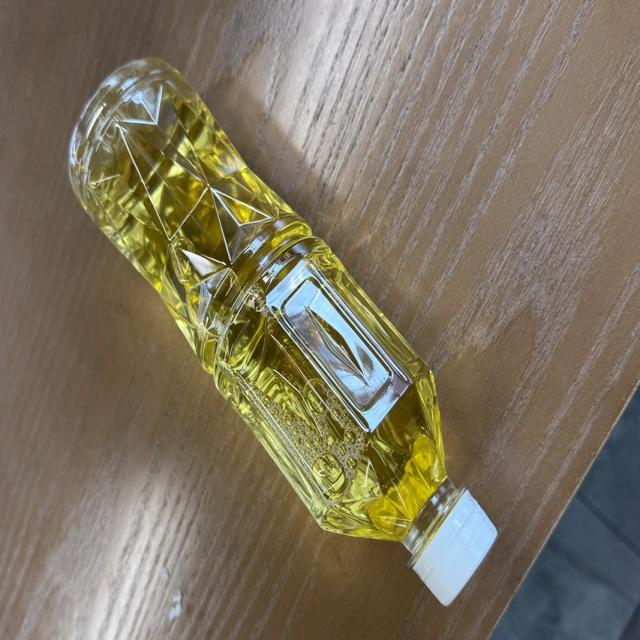high: (70, 58, 494, 603)
